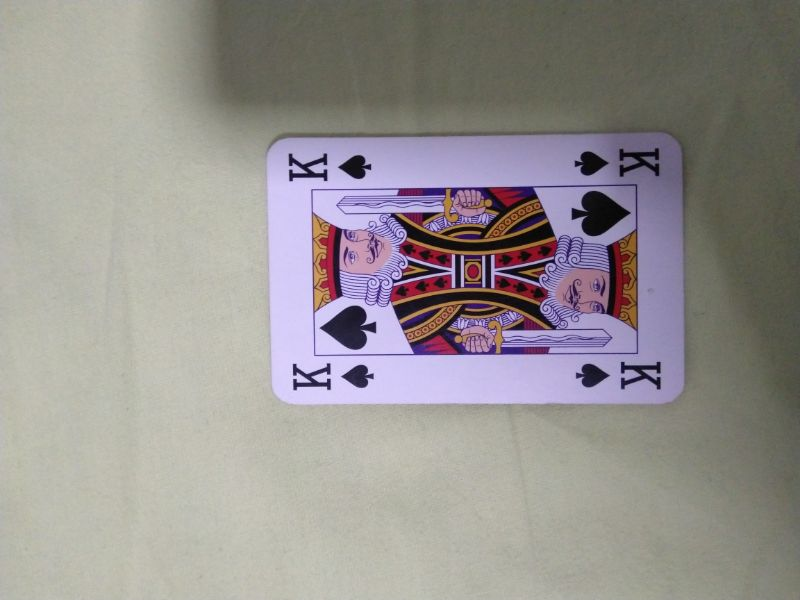Ks: (280, 146, 378, 184), (570, 142, 665, 181), (283, 357, 378, 394), (572, 358, 668, 392)
